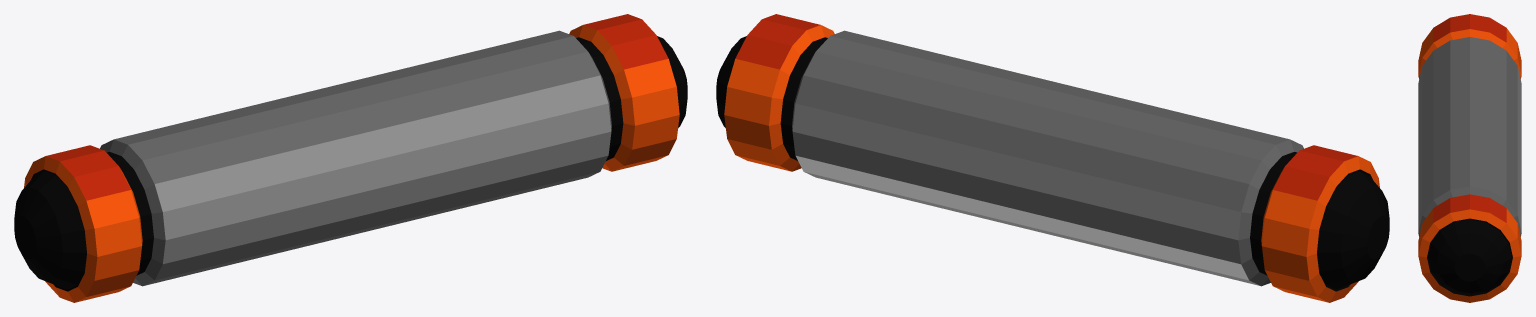
The model's file is paddle.glb.
3 renders of one model, left to right at view 1: azimuth 30°, elevation 25°; view 2: azimuth 150°, elevation 25°; view 3: azimuth 270°, elevation 25°, orthographic. The views are drawn at different scales.
Visible parts, largest first — view 1: 0paddle, L_black, R_black; view 2: 0paddle, L_black, R_black; view 3: 0paddle, R_black.
Part boxes in pixels (left/top/right/bottom): 0paddle: left=24, top=14, right=679, bottom=302; L_black: left=14, top=171, right=86, bottom=289; R_black: left=657, top=36, right=687, bottom=128; 0paddle: left=724, top=14, right=1379, bottom=302; L_black: left=1317, top=171, right=1389, bottom=289; R_black: left=716, top=36, right=746, bottom=128; 0paddle: left=1418, top=14, right=1521, bottom=302; R_black: left=1428, top=219, right=1511, bottom=294.
Bounding box in the file's own units: 0.3 × 0.06 × 0.06.
1 material, 1 textured.
